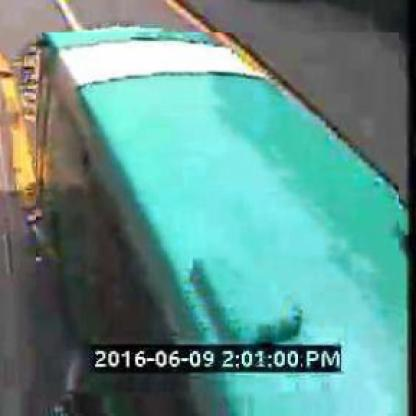bus: (37, 34, 401, 416)
